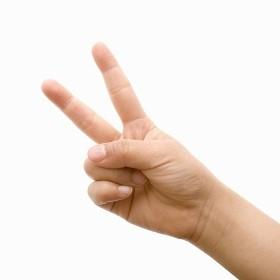tyoki: (40, 42, 201, 232)
